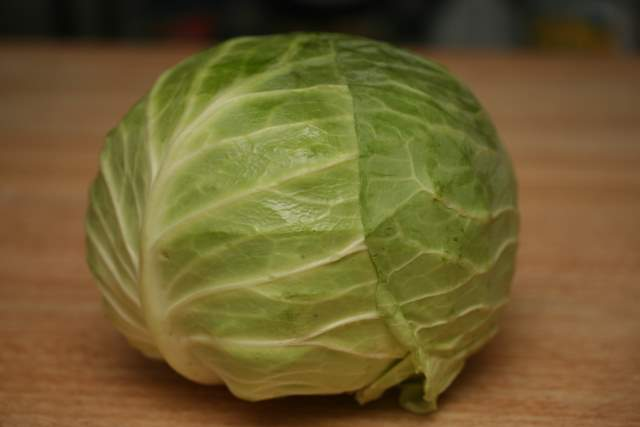cabbage: (83, 30, 522, 416)
